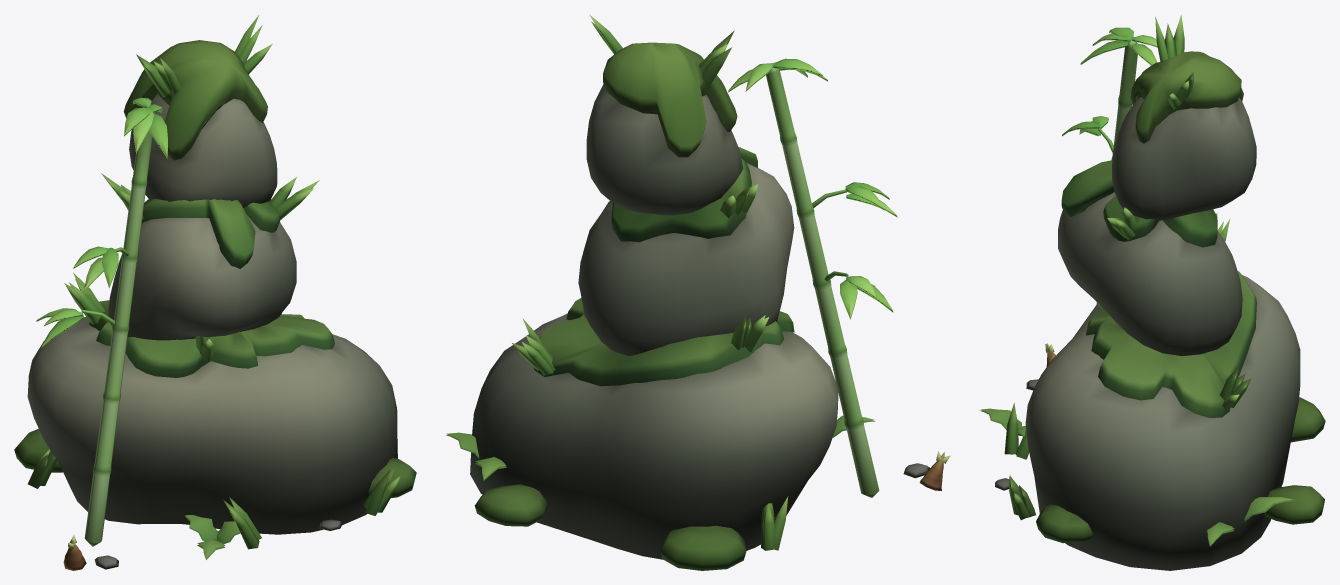
Rendered from dg-bamboo-rockPillar-v1.glb.
The picture shows the model from 3 angles, left to right: view 1: azimuth 30°, elevation 25°; view 2: azimuth 150°, elevation 25°; view 3: azimuth 270°, elevation 25°; orthographic projection. The views are drawn at different scales.
Visible parts, largest first — view 1: stone, leaf, body; view 2: stone, leaf, body; view 3: stone, leaf, body.
Boxes of the visible parts, left/top/right/bottom form: stone: left=14, top=40, right=416, bottom=569; leaf: left=28, top=15, right=400, bottom=559; body: left=63, top=110, right=154, bottom=570; stone: left=470, top=42, right=929, bottom=570; leaf: left=446, top=14, right=897, bottom=550; body: left=766, top=67, right=950, bottom=497; stone: left=995, top=51, right=1325, bottom=570; leaf: left=979, top=15, right=1294, bottom=546; body: left=1045, top=40, right=1137, bottom=366.
Bounding box in the file's own units: 2.62 × 2.89 × 2.04.
